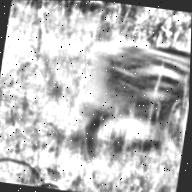boar: (69, 23, 191, 160)
